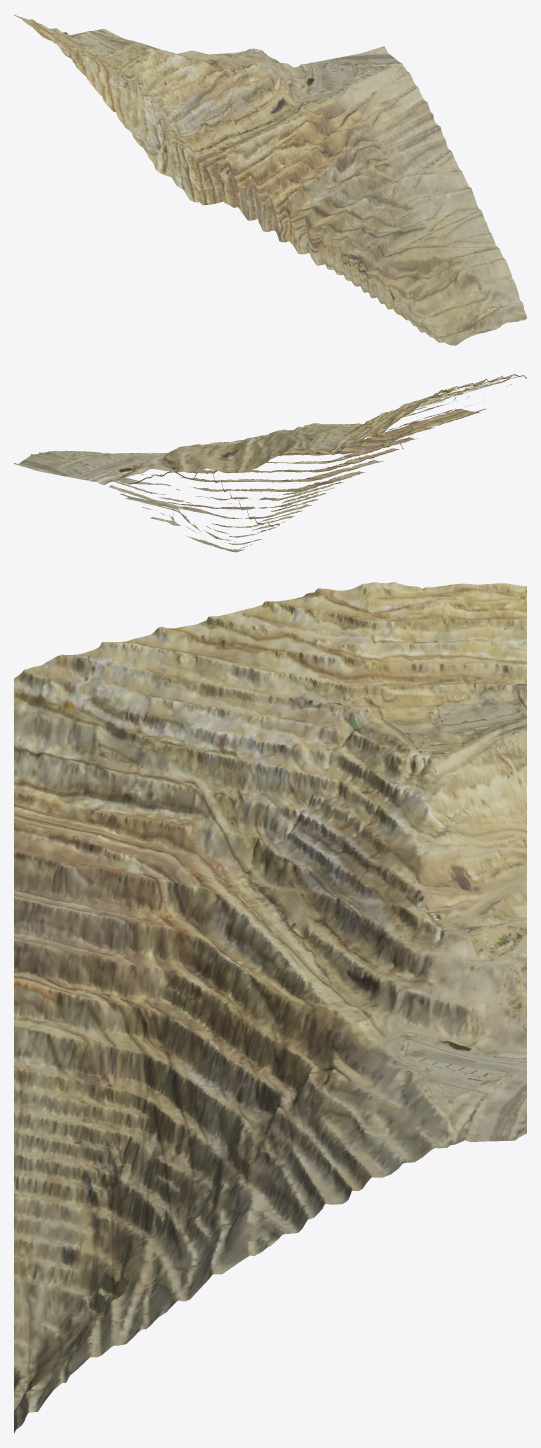
3 renders of one model, top to bottom at view 1: azimuth 30°, elevation 25°; view 2: azimuth 150°, elevation 25°; view 3: azimuth 270°, elevation 25°, orthographic. The views are drawn at different scales.
Parts seen in each view (by area): view 1: l2-1-3; view 2: l2-1-3; view 3: l2-1-3.
Boxes of the visible parts, left/top/right/bottom form: l2-1-3: left=14, top=14, right=526, bottom=345; l2-1-3: left=14, top=374, right=526, bottom=552; l2-1-3: left=14, top=582, right=526, bottom=1433.
Bounding box in the file's own units: 768 × 599 × 512.
1 material, 1 textured.
